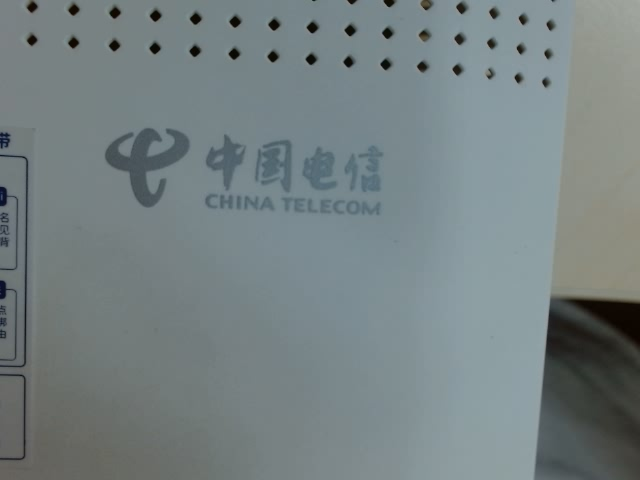AB_ChinaTelecom: (84, 106, 392, 227)
